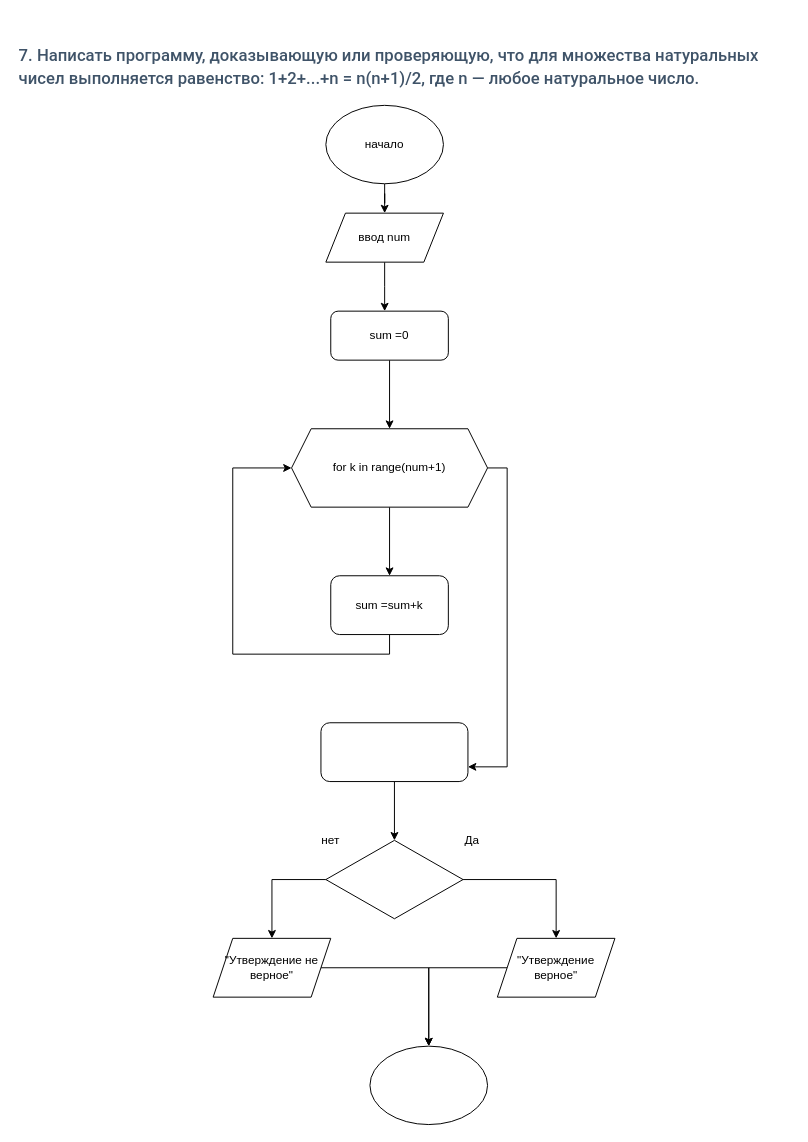
This 808x1142 diagram has some shape labels left out. The box of each missing label's shape, as (x1, y1, x2, y2) in pixels:
if sum == sum2: (325, 839, 463, 919)
sum2 = num*(num+1)/2: (320, 722, 468, 782)
конец: (369, 1045, 488, 1125)
